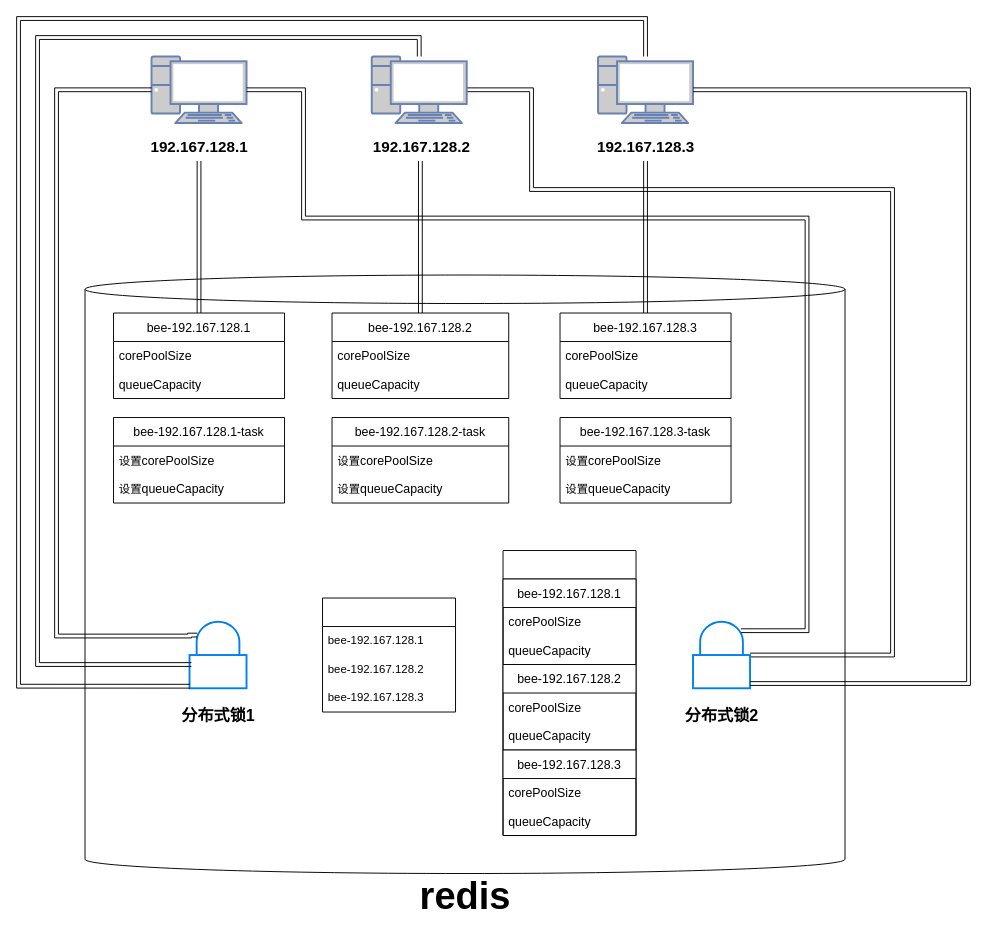
This 987x941 diagram has some shape labels left out. The box of each missing label's shape, as (x1, y1, x2, y2) in pixels:
beeSet: (322, 597, 456, 712)
honeycomb: (502, 550, 636, 836)
